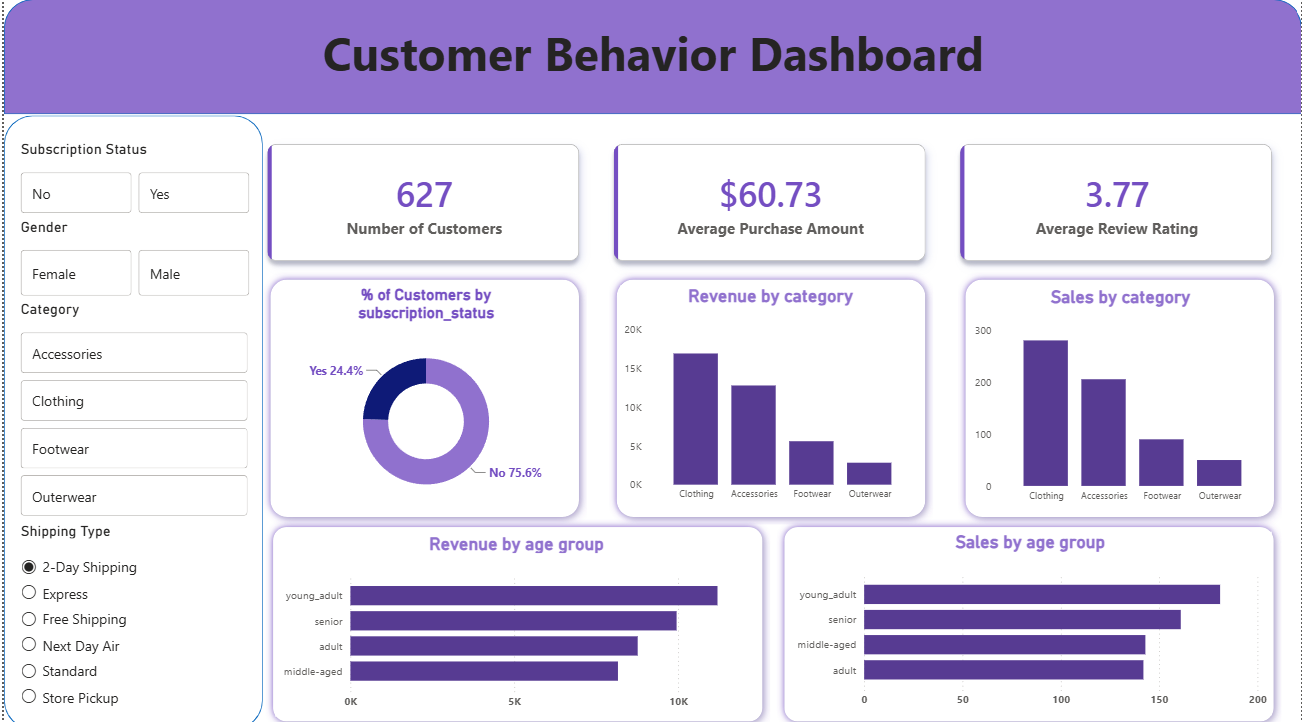

The dashboard page shown, as its layout file describes it:
{"tool":"powerbi","page":{"name":"Page 1","canvas":[1500,850],"ordinal":0},"visuals":[{"type":"cardVisual","fields":{"Data":["customer_shopping_behavior.Number of Customers","customer_shopping_behavior.Average Purchase Amount","customer_shopping_behavior.Average Review Rating"]},"box":[271.4,141.5,1227.7,201.8],"z":0},{"type":"shape","box":[0,7.2,1499.9,132.8],"z":1000},{"type":"textbox","box":[0,27.4,1499.9,85.2],"z":2000},{"type":"shape","box":[298.8,321.9,374.2,292.3],"z":3000},{"type":"donutChart","title":"% of Customers by subscription_status","fields":{"Category":["customer_shopping_behavior.subscription_status"],"Y":["customer_shopping_behavior.Number of Customers"]},"box":[317.6,337.8,339.9,258],"z":4000},{"type":"shape","box":[1101.5,321.9,374.2,292.3],"z":5000},{"type":"shape","box":[698.7,321.9,374.2,292.3],"z":6000},{"type":"clusteredColumnChart","title":"Revenue by category","fields":{"Y":["Sum(customer_shopping_behavior.purchase_amount)"],"Category":["customer_shopping_behavior.category"]},"box":[711.7,337.8,347.3,258],"z":7000},{"type":"clusteredColumnChart","title":"Sales by category","fields":{"Category":["customer_shopping_behavior.category"],"Y":["CountNonNull(customer_shopping_behavior.customer_id)"]},"box":[1115.9,339.3,347.3,258],"z":8000},{"type":"shape","box":[0,141.5,298.8,708.8],"z":9000},{"type":"advancedSlicerVisual","title":"Subscription Status","fields":{"Values":["customer_shopping_behavior.subscription_status"]},"box":[14.4,170.3,274.3,89.5],"z":10000},{"type":"advancedSlicerVisual","title":"Gender","fields":{"Values":["customer_shopping_behavior.gender"]},"box":[14.4,259.9,274.3,95.3],"z":11000},{"type":"advancedSlicerVisual","title":"Category","fields":{"Values":["customer_shopping_behavior.category"]},"box":[14.4,355.1,272.8,255.5],"z":12000},{"type":"listSlicer","title":"Shipping Type","fields":{"Values":["customer_shopping_behavior.shipping_type"]},"box":[14.4,610.7,274.3,225.2],"z":13000},{"type":"shape","box":[301.7,607.8,583.2,242.5],"z":14000},{"type":"clusteredBarChart","title":"Revenue by age group","fields":{"Y":["Sum(customer_shopping_behavior.purchase_amount)"],"Category":["customer_shopping_behavior.age_group"]},"box":[313.3,623.6,557.2,212.2],"z":15000},{"type":"shape","box":[892.2,607.8,583.2,242.5],"z":16000},{"type":"clusteredBarChart","title":"Sales by age group","fields":{"Y":["CountNonNull(customer_shopping_behavior.customer_id)"],"Category":["customer_shopping_behavior.age_group"]},"box":[906.6,622.2,557.2,212.2],"z":16001}]}

Visuals, with their boxes in screenshot pixels (x1, y1, x2, y2), scaled from the page's 1500x850 canvas onto the 1302x722 screenshot:
cardVisual - customer_shopping_behavior.Number of Customers x customer_shopping_behavior.Average Purchase Amount: <box>236,120,1301,292</box>
shape: <box>0,6,1301,119</box>
textbox: <box>0,23,1301,96</box>
shape: <box>259,273,584,522</box>
"% of Customers by subscription_status" donutChart: <box>276,287,571,506</box>
shape: <box>956,273,1281,522</box>
shape: <box>606,273,931,522</box>
"Revenue by category" clusteredColumnChart: <box>618,287,919,506</box>
"Sales by category" clusteredColumnChart: <box>969,288,1270,507</box>
shape: <box>0,120,259,721</box>
"Subscription Status" advancedSlicerVisual: <box>12,145,251,221</box>
"Gender" advancedSlicerVisual: <box>12,221,251,302</box>
"Category" advancedSlicerVisual: <box>12,302,249,519</box>
"Shipping Type" listSlicer: <box>12,519,251,710</box>
shape: <box>262,516,768,721</box>
"Revenue by age group" clusteredBarChart: <box>272,530,756,710</box>
shape: <box>774,516,1281,721</box>
"Sales by age group" clusteredBarChart: <box>787,529,1271,709</box>
